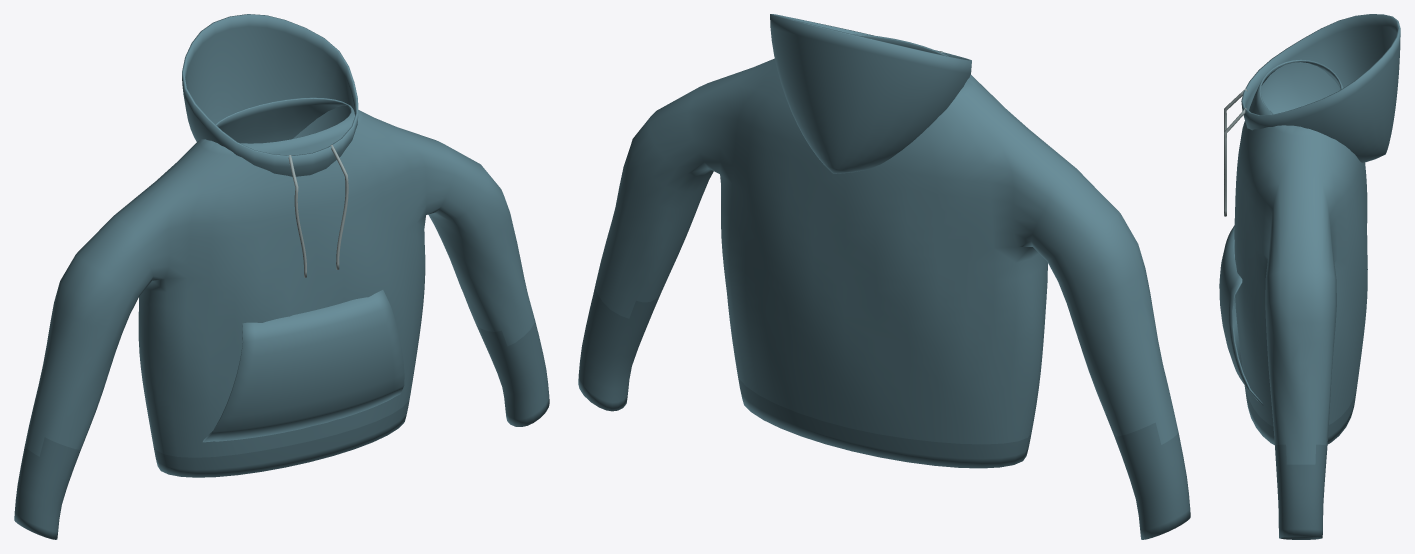
The picture shows the model from 3 angles, left to right: view 1: azimuth 30°, elevation 25°; view 2: azimuth 150°, elevation 25°; view 3: azimuth 270°, elevation 25°; orthographic projection. The views are drawn at different scales.
Visible parts, largest first — view 1: Continuous torso and open cuff sleeves, Kangaroo pocket cloth with two hand openings, Attached lined hood with finished opening; view 2: Continuous torso and open cuff sleeves, Attached lined hood with finished opening; view 3: Continuous torso and open cuff sleeves, Attached lined hood with finished opening, Kangaroo pocket cloth with two hand openings, Drawcord 1.
Boxes of the visible parts, box(x1,y1,x2,y2) form: Continuous torso and open cuff sleeves: box(14, 97, 549, 539); Kangaroo pocket cloth with two hand openings: box(203, 290, 404, 442); Attached lined hood with finished opening: box(182, 14, 358, 176); Continuous torso and open cuff sleeves: box(578, 34, 1190, 539); Attached lined hood with finished opening: box(770, 14, 971, 173); Continuous torso and open cuff sleeves: box(1234, 59, 1367, 539); Attached lined hood with finished opening: box(1241, 14, 1400, 163); Kangaroo pocket cloth with two hand openings: box(1219, 225, 1263, 405); Drawcord 1: box(1224, 108, 1246, 216).
Size of the model in its own units: 1.01 by 0.7807 by 0.3164.
